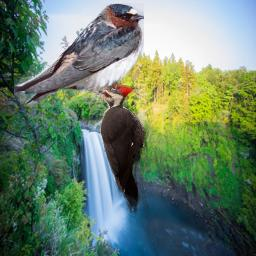Swallow: (14, 3, 144, 107)
Woodpecker: (82, 85, 149, 213)
